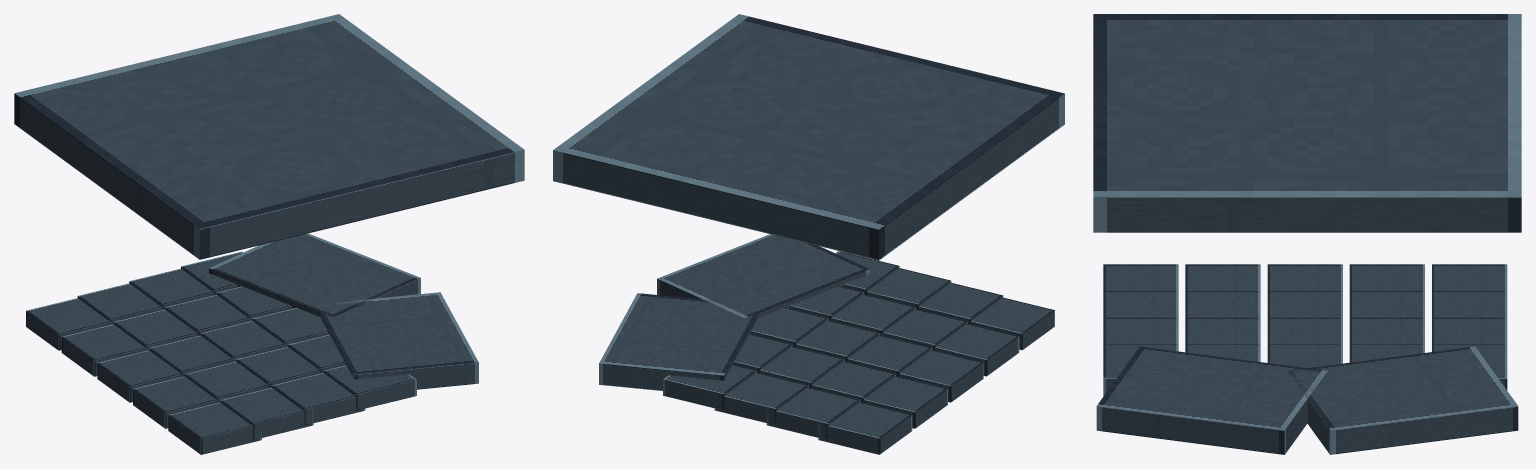
File: bench_chestplate_2.obj
3 renders of one model, left to right at view 1: azimuth 30°, elevation 25°; view 2: azimuth 150°, elevation 25°; view 3: azimuth 270°, elevation 25°, orthographic. The views are drawn at different scales.
Parts seen in each view (by area): view 1: geometry; view 2: geometry; view 3: geometry.
Boxes of the visible parts, x1=… form: geometry: x1=14, y1=14, x2=524, y2=454; geometry: x1=553, y1=14, x2=1064, y2=454; geometry: x1=1093, y1=14, x2=1521, y2=454.
Size of the model in its own units: 0.3688 by 0.25 by 0.3646.
